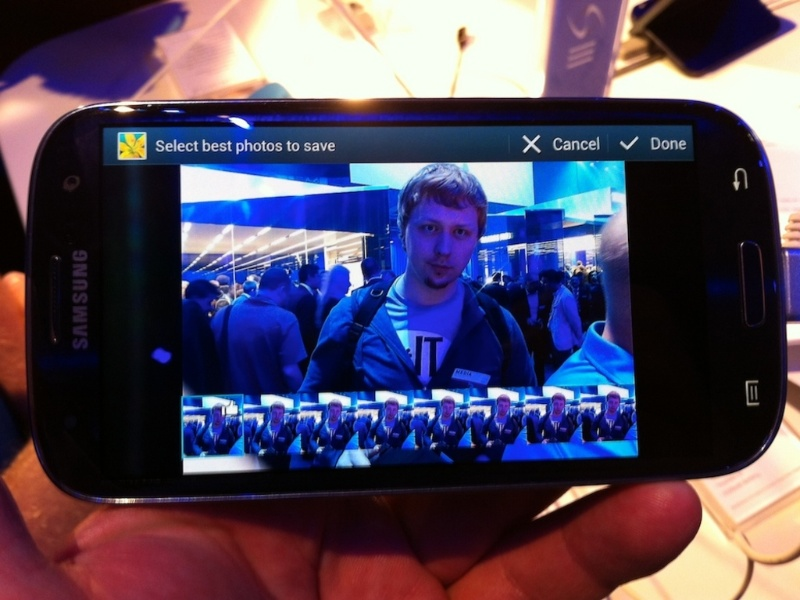cellphone: (18, 73, 800, 513)
